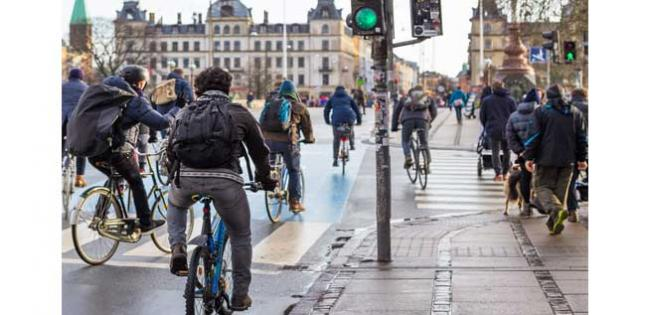commuter: (62, 67, 196, 266), (166, 66, 260, 315), (255, 78, 316, 227), (390, 87, 435, 194), (321, 86, 363, 180)
